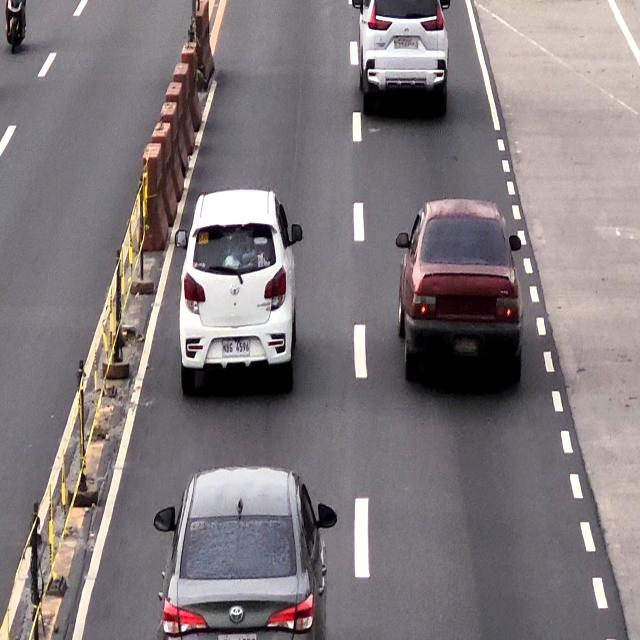Car: (165, 469, 325, 640), (181, 187, 293, 395), (400, 199, 518, 380), (358, 0, 442, 119)
License-Plate: (220, 337, 251, 357), (393, 36, 420, 52)
